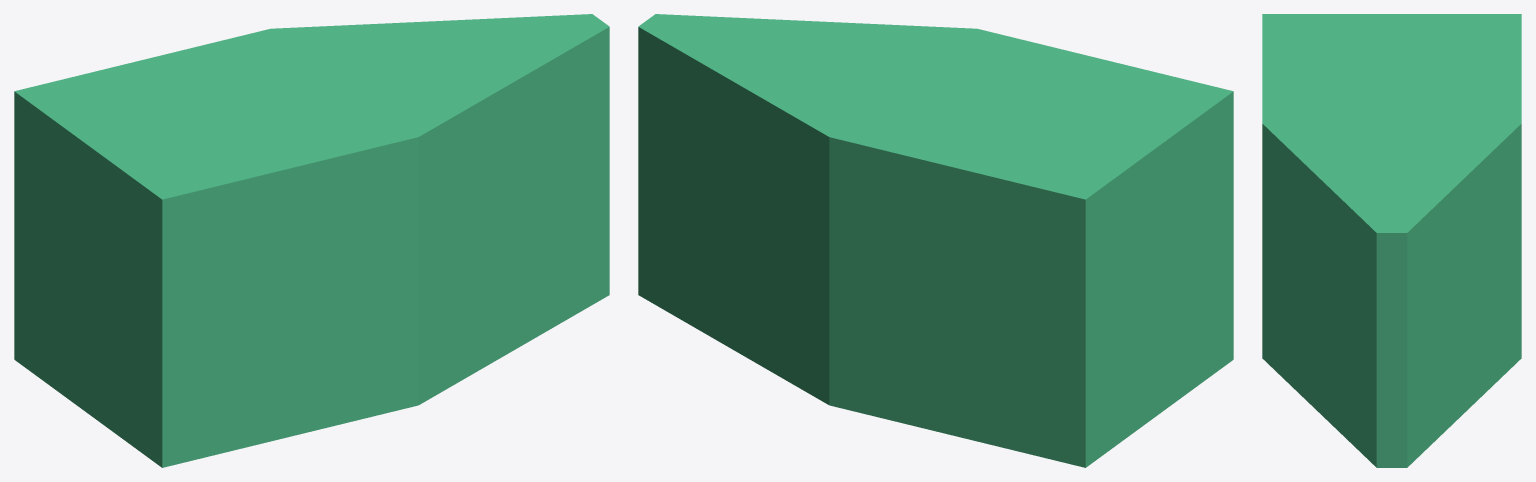
Rendered from gm_sharp_vert.dae.
3 views of the same model, side by side, from view 1: azimuth 30°, elevation 25°; view 2: azimuth 150°, elevation 25°; view 3: azimuth 270°, elevation 25° (orthographic). The views are drawn at different scales.
Parts seen in each view (by area): view 1: Colmesh-1; view 2: Colmesh-1; view 3: Colmesh-1.
Part boxes in pixels (bbox=[...]): Colmesh-1: bbox=[14, 14, 609, 467]; Colmesh-1: bbox=[638, 14, 1233, 467]; Colmesh-1: bbox=[1262, 14, 1521, 467].
Bounding box in the file's own units: 4 × 2 × 2.
